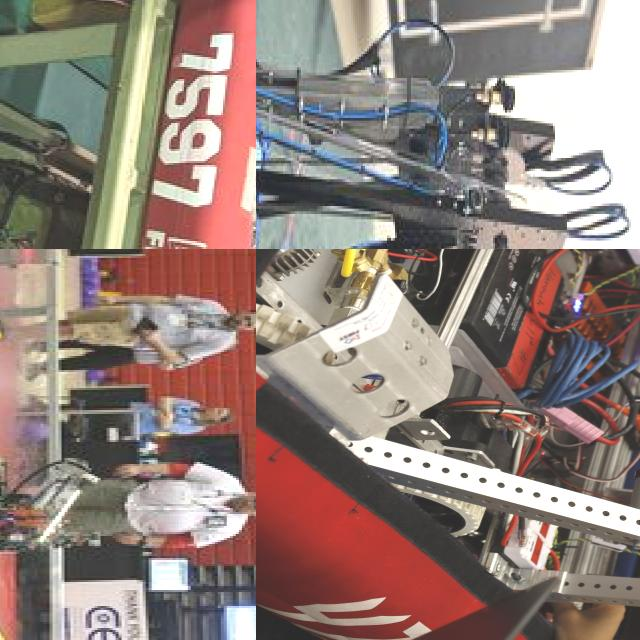FRC-Robots: (256, 249, 640, 640), (256, 0, 613, 249), (3, 0, 256, 249), (0, 411, 129, 591)
